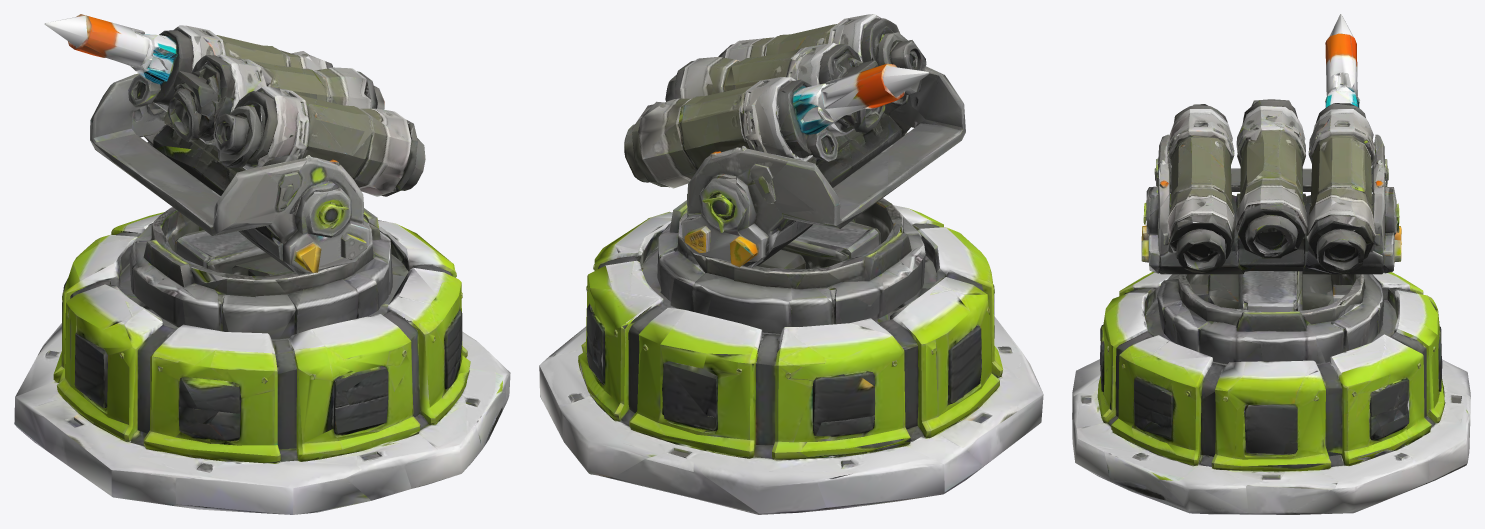
The model's file is turret-r.glb.
3 renders of one model, left to right at view 1: azimuth 30°, elevation 25°; view 2: azimuth 150°, elevation 25°; view 3: azimuth 270°, elevation 25°, orthographic. The views are drawn at different scales.
Size of the model in its own units: 1.9 by 1.81 by 1.9.
1 material, 1 textured.
